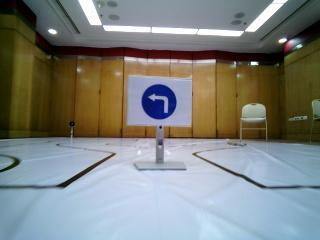left: (129, 77, 181, 125)
